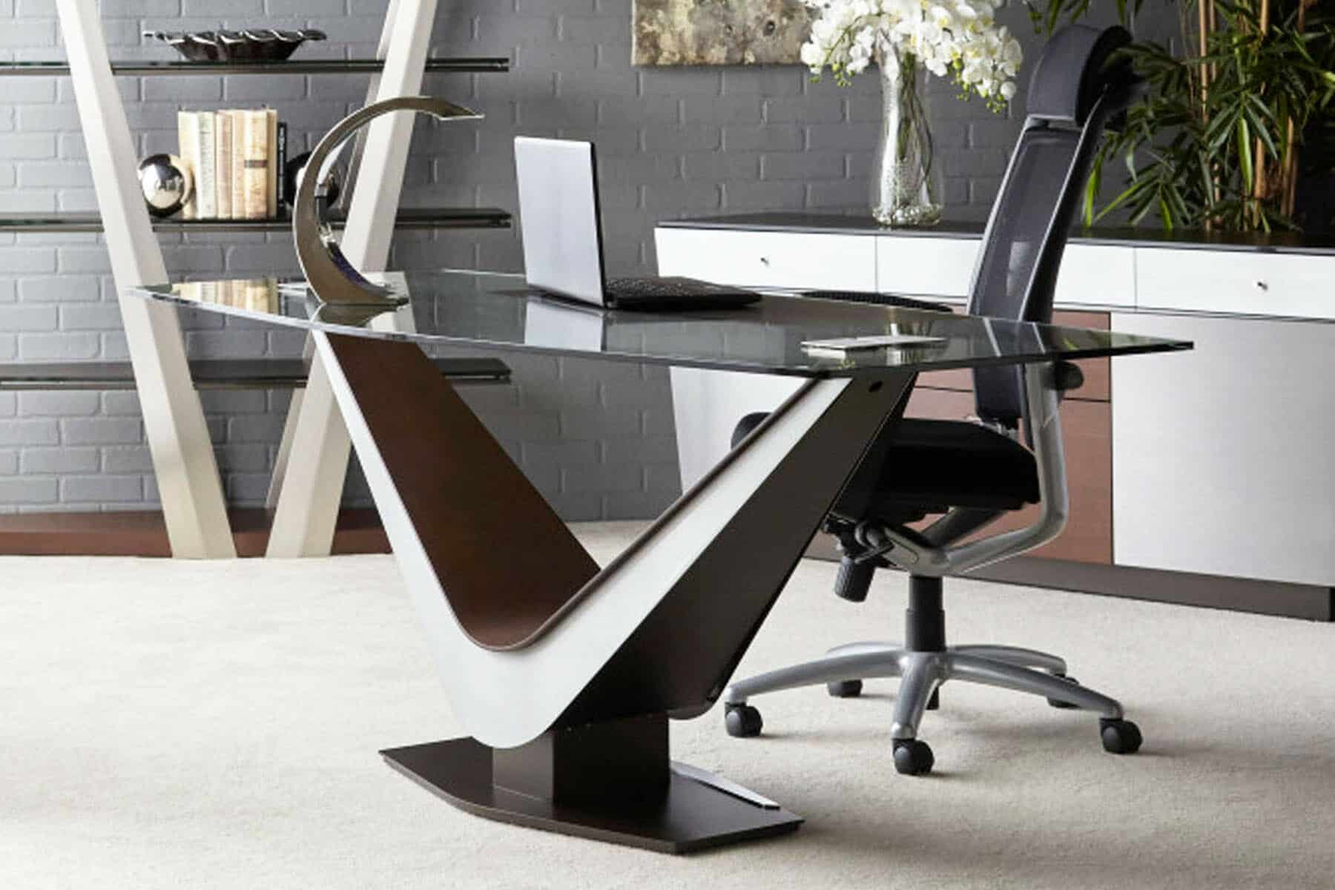not a gesture sign: (0, 556, 1334, 889)
